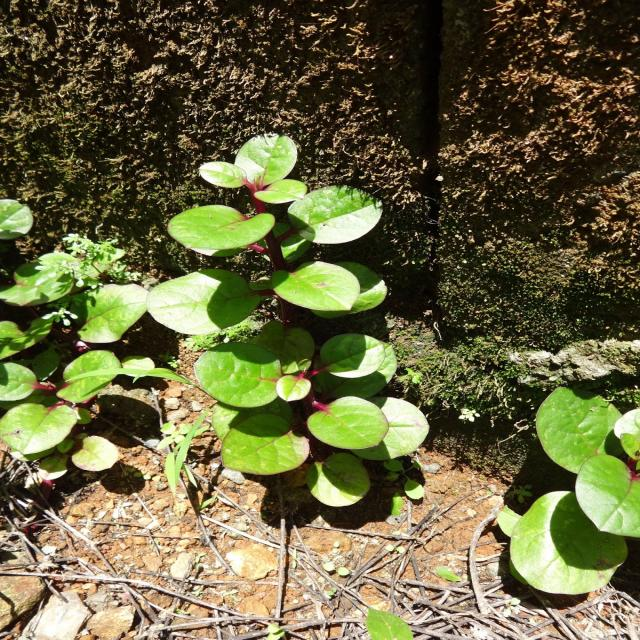Medicinal-Basale: (143, 123, 433, 511)
